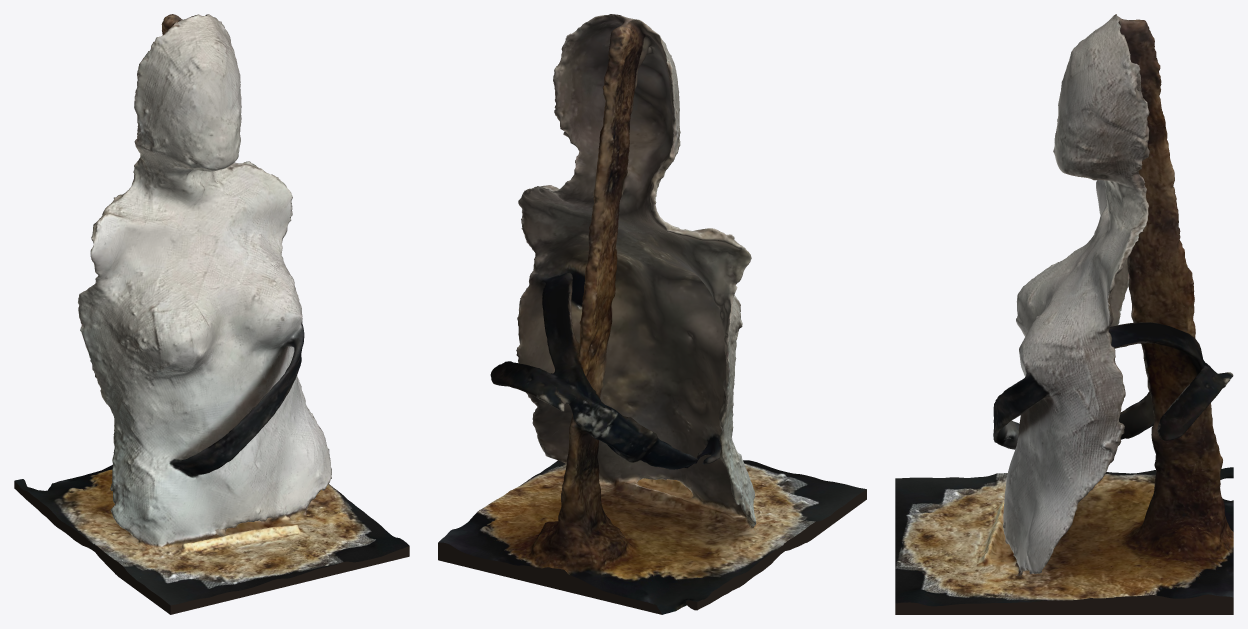
The model's file is FA-008-AVIF.glb.
3 views of the same model, side by side, from view 1: azimuth 30°, elevation 25°; view 2: azimuth 150°, elevation 25°; view 3: azimuth 270°, elevation 25° (orthographic). The views are drawn at different scales.
Parts seen in each view (by area): view 1: 3DModel; view 2: 3DModel; view 3: 3DModel.
Part boxes in pixels (bbox=[...]): 3DModel: bbox=[14, 14, 409, 614]; 3DModel: bbox=[438, 14, 866, 614]; 3DModel: bbox=[895, 14, 1233, 614].
Size of the model in its own units: 0.4616 by 0.9067 by 0.5221.
1 material, 1 textured.
